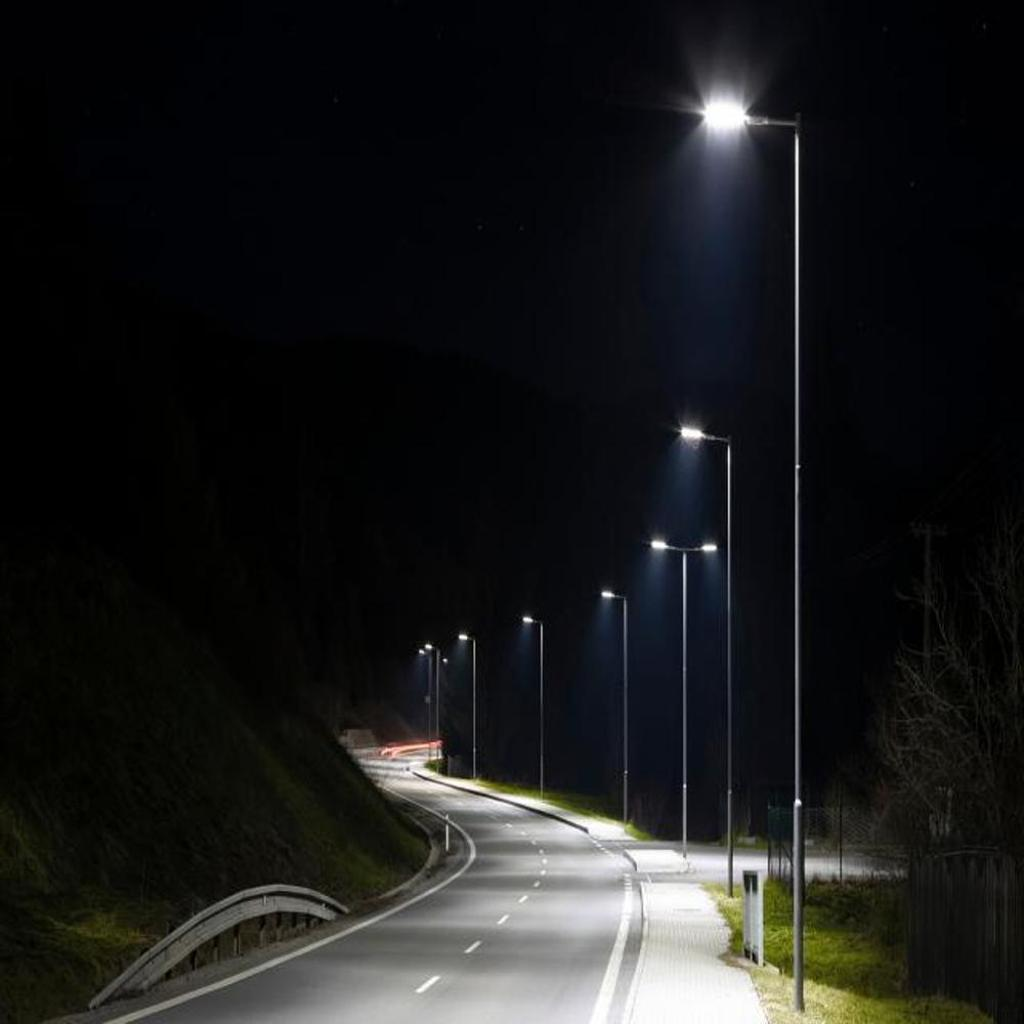shelf: (697, 90, 818, 1010), (679, 409, 744, 895), (594, 573, 646, 833), (516, 600, 555, 806), (451, 622, 488, 780)
